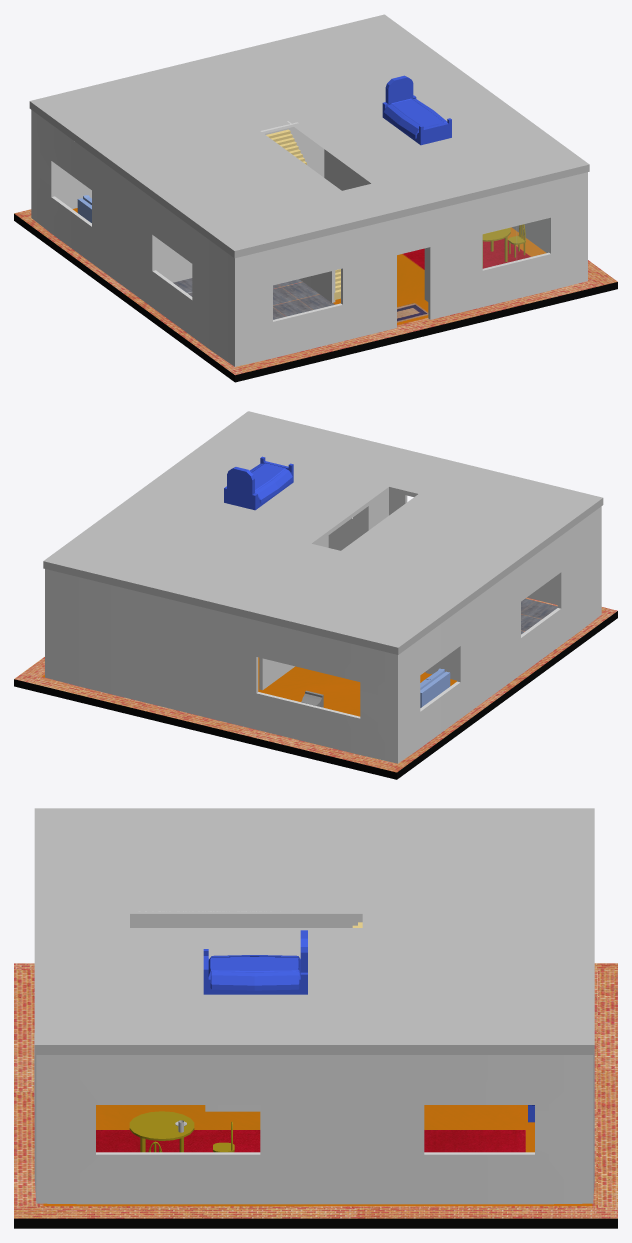
File: casacontodo.FBX
3 renders of one model, top to bottom at view 1: azimuth 30°, elevation 25°; view 2: azimuth 150°, elevation 25°; view 3: azimuth 270°, elevation 25°, orthographic. The views are drawn at different scales.
Parts seen in each view (by area): view 1: SueloPlanta, PrimeraPlanta, Suelo, cama, Ventana, Box021; view 2: SueloPlanta, PrimeraPlanta, Suelo, cama, sofa; view 3: SueloPlanta, PrimeraPlanta, Suelo, cama, Cylinder005.
Part boxes in pixels (x1,y1,x2,y2): SueloPlanta: [29, 14, 589, 258]; PrimeraPlanta: [31, 110, 587, 366]; Suelo: [14, 208, 617, 382]; cama: [382, 75, 451, 145]; Ventana: [483, 218, 550, 269]; Box021: [266, 129, 340, 299]; SueloPlanta: [43, 411, 603, 654]; PrimeraPlanta: [45, 487, 601, 763]; Suelo: [14, 597, 617, 779]; cama: [224, 456, 293, 510]; sofa: [420, 668, 450, 707]; SueloPlanta: [34, 808, 594, 1054]; PrimeraPlanta: [34, 911, 594, 1204]; Suelo: [14, 963, 617, 1228]; cama: [203, 930, 307, 994]; Cylinder005: [129, 1111, 194, 1152].
Bounding box in the file's own units: 110 × 44.07 × 110.
